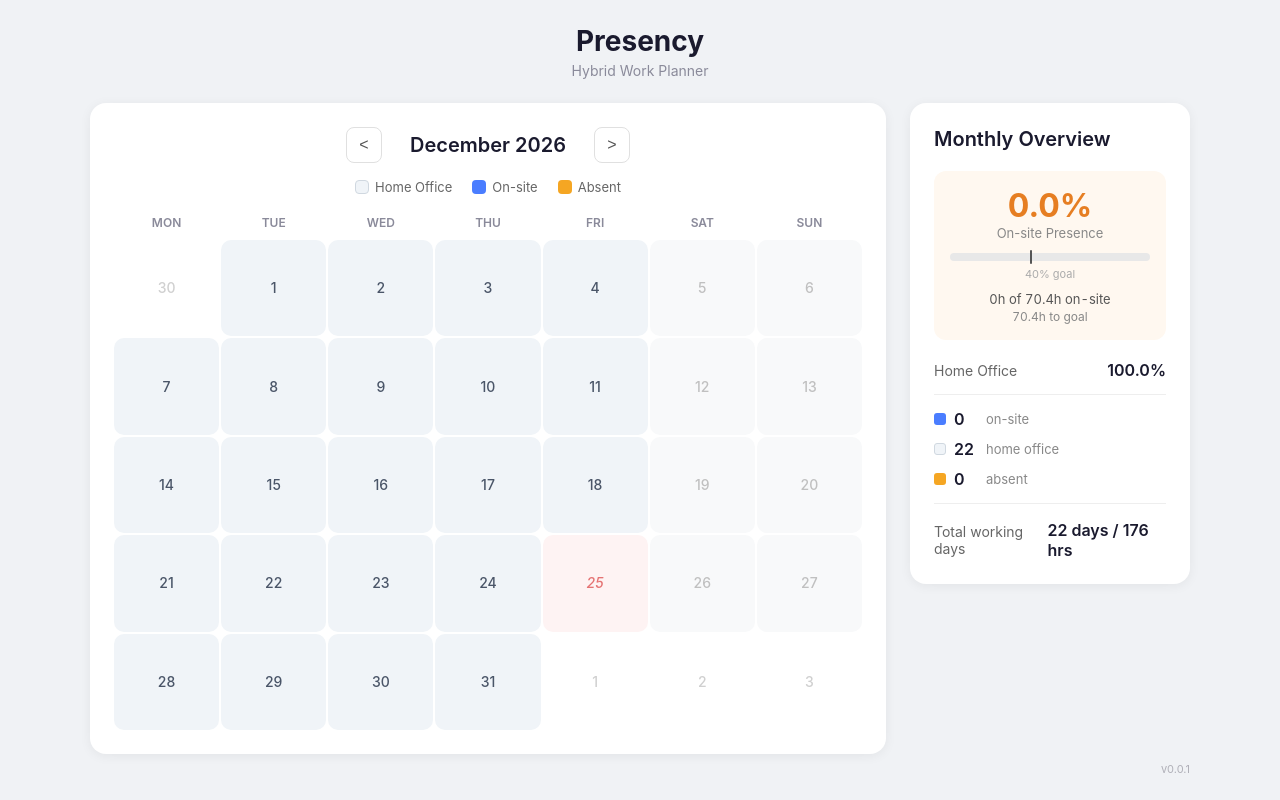
Test: App integration › navigating next from December wraps to January of the next year
expect the heading "December 2026" is shown: met, box [398, 133, 578, 157]
Click the button named "Next month" at (612,145), box [594, 127, 630, 163]
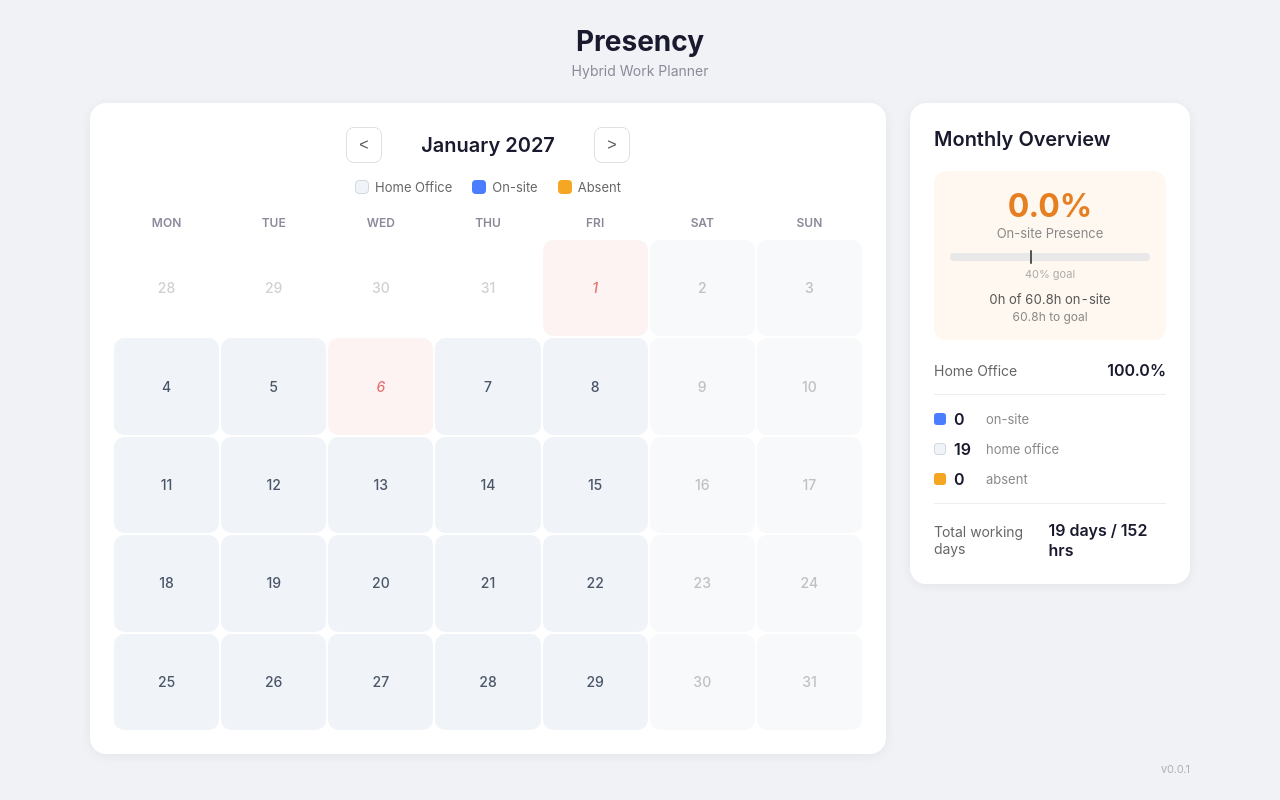
expect the heading "January 2027" is shown: met, box [421, 133, 555, 157]
